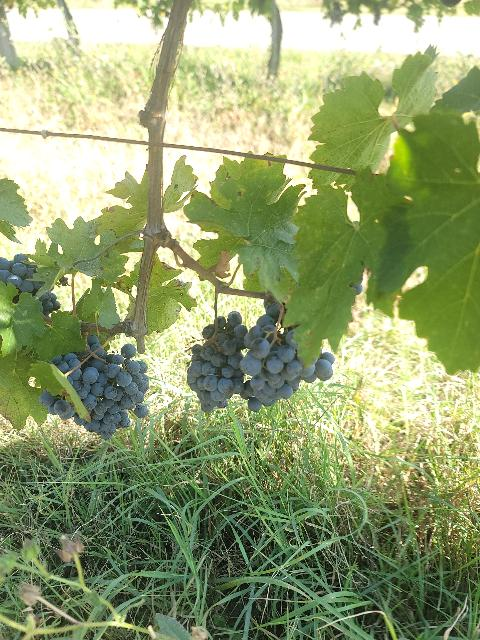grapes: (240, 300, 335, 411), (52, 335, 149, 439), (186, 311, 246, 412)
